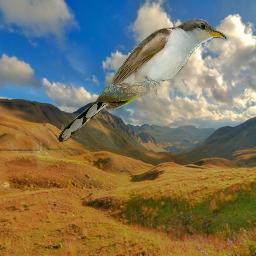Cuckoo: (55, 17, 230, 143)
